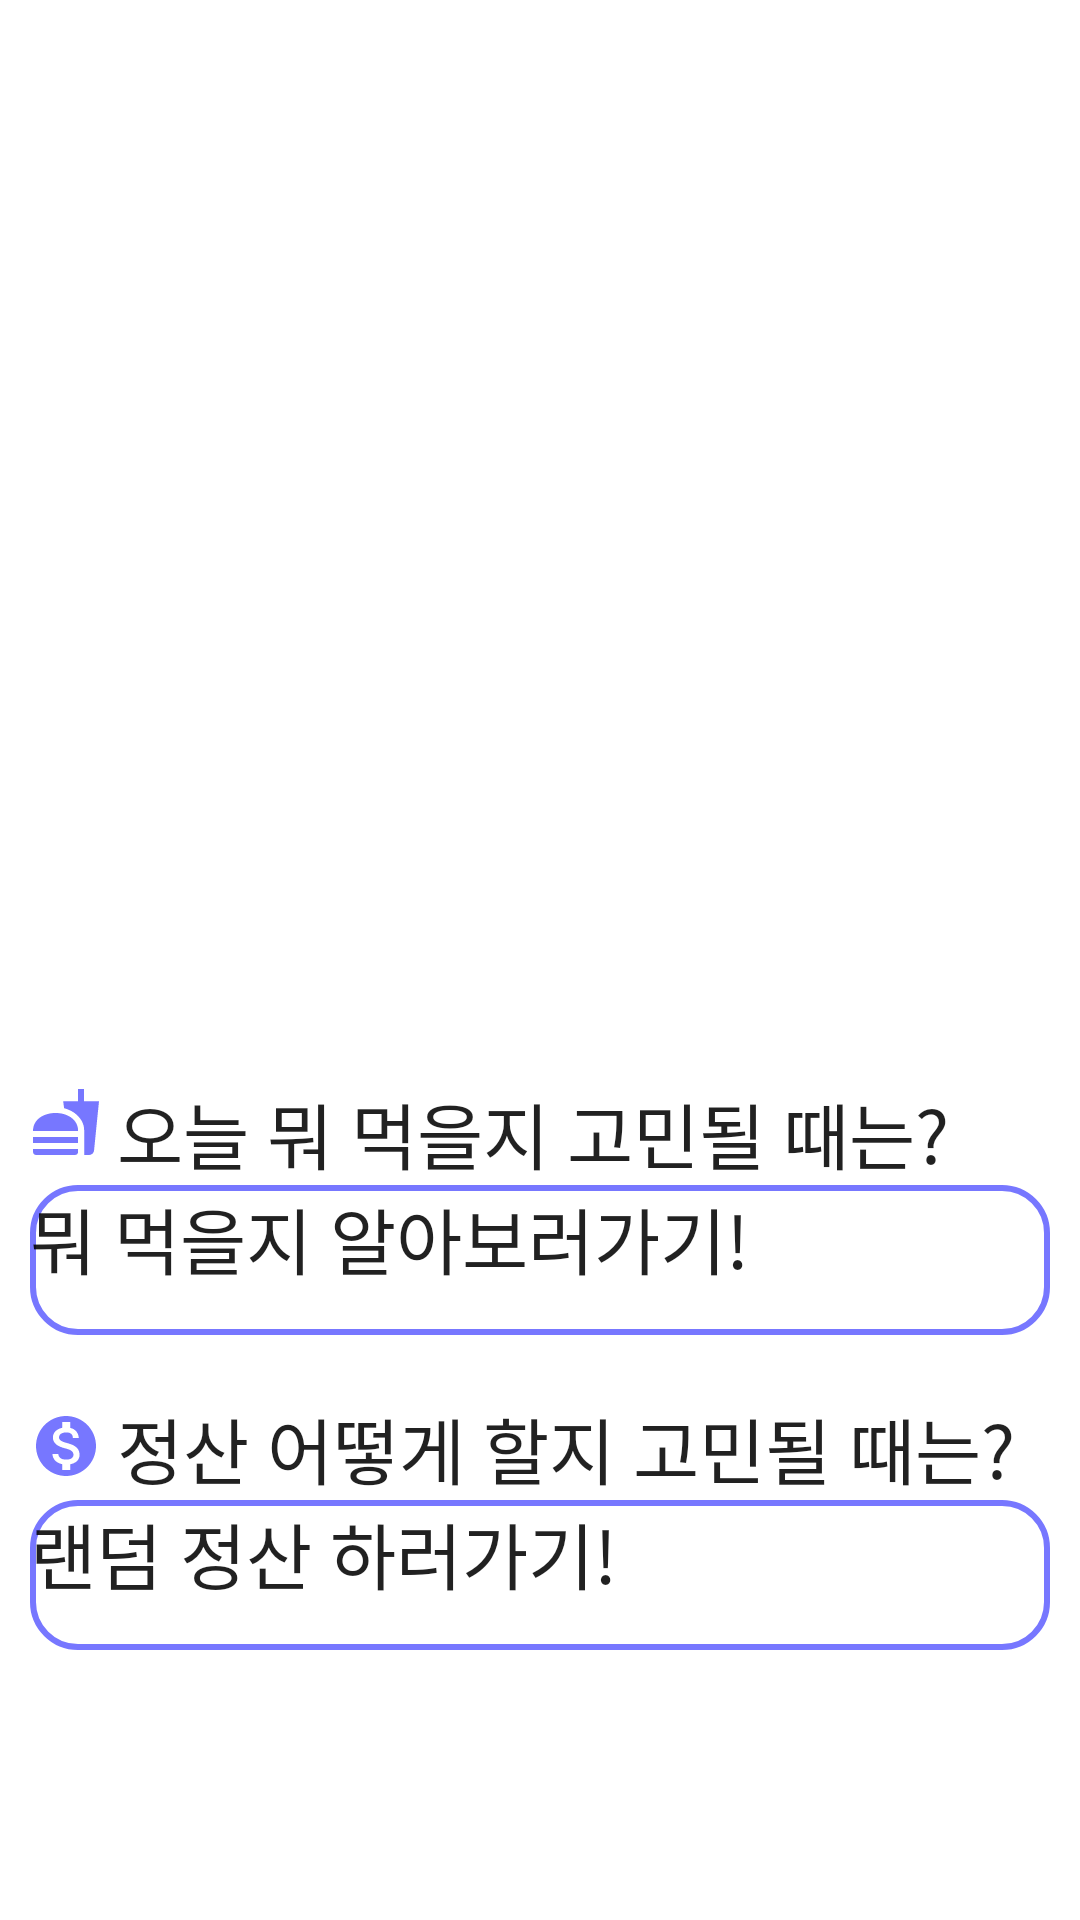

Where icons sit on this 1080w x 1920h app screen, as (x1, y1, x2, y2):
food: (33, 1089, 99, 1155)
money: (36, 1416, 96, 1476)
